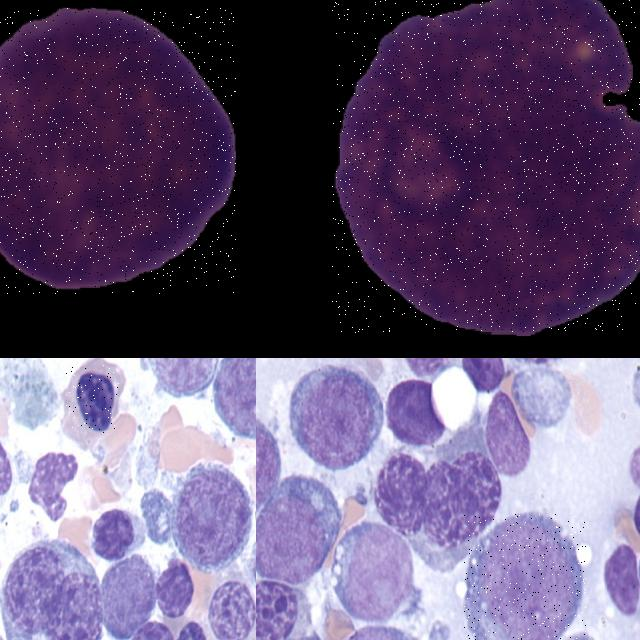ALL Negative Cells: (464, 513, 585, 640), (288, 367, 382, 468), (172, 466, 254, 569), (208, 577, 256, 640), (256, 419, 277, 528)
ALL Positive Cell: (332, 0, 640, 333), (0, 9, 235, 294), (423, 455, 504, 548), (377, 446, 429, 530), (66, 365, 119, 435), (256, 577, 311, 640), (90, 508, 147, 556), (465, 358, 504, 393), (171, 621, 209, 640), (630, 476, 640, 527)
